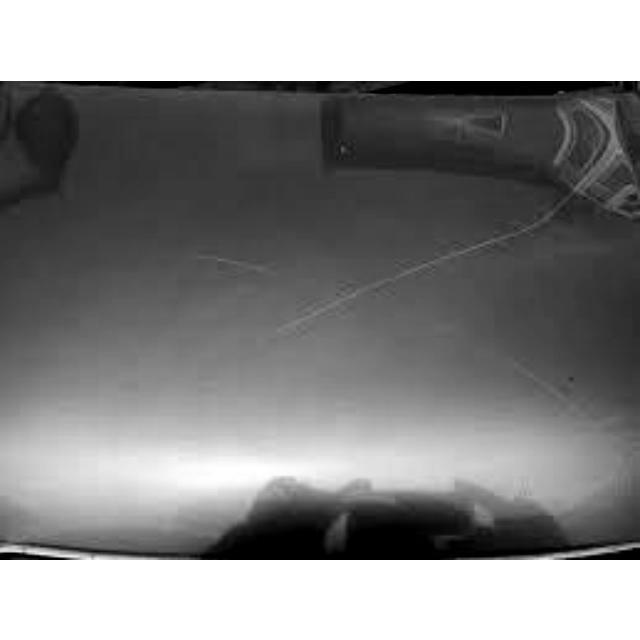bonnet-dent: (1, 83, 638, 557)
